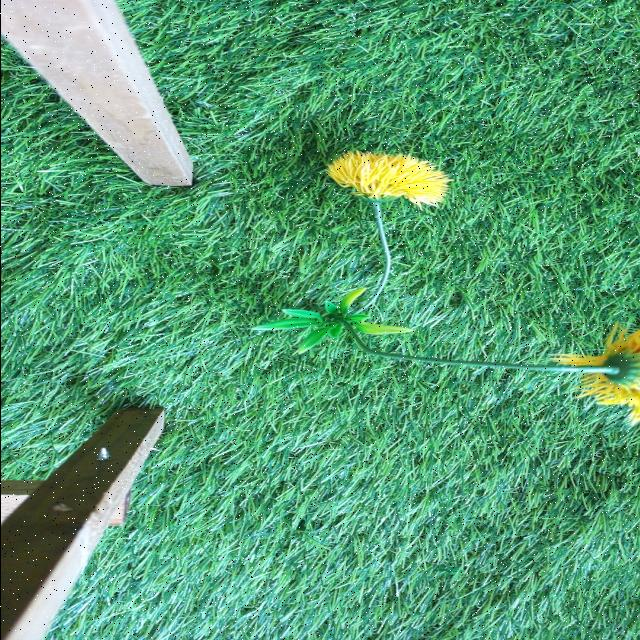base: (254, 291, 410, 355)
flower: (567, 329, 640, 425), (332, 151, 448, 205)
